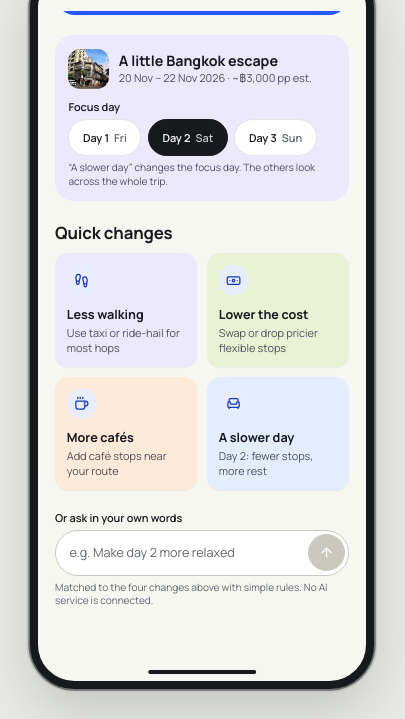
Test: AdjustScreen › the itinerary "Undo last change" replaces a stale Undo toast
(page scrolled)
Step 1. Click the button "More cafés Add café stops near your route" → (126,433), box left=55, top=377, right=197, bottom=490
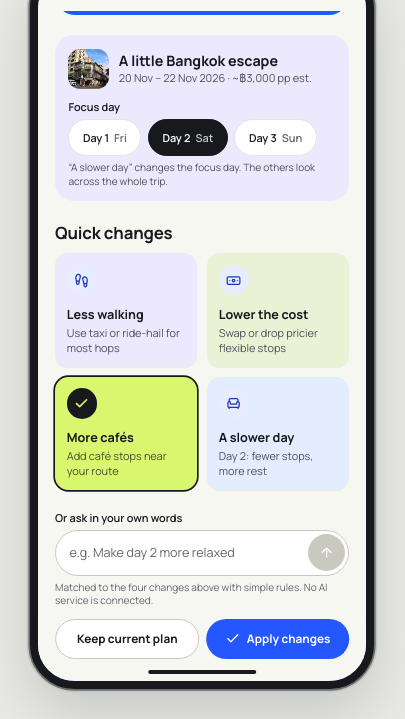
Step 2. Click the button "Apply changes" → (278,639), box left=206, top=619, right=349, bottom=659
(page scrolled)
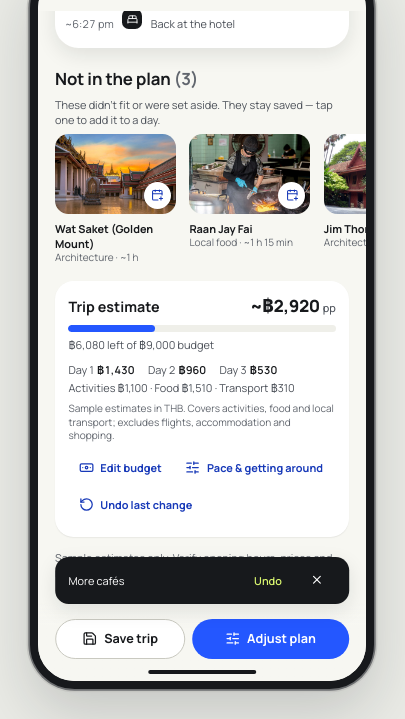
Step 3. Click the button "Undo last change" → (135,505), box left=68, top=486, right=202, bottom=523
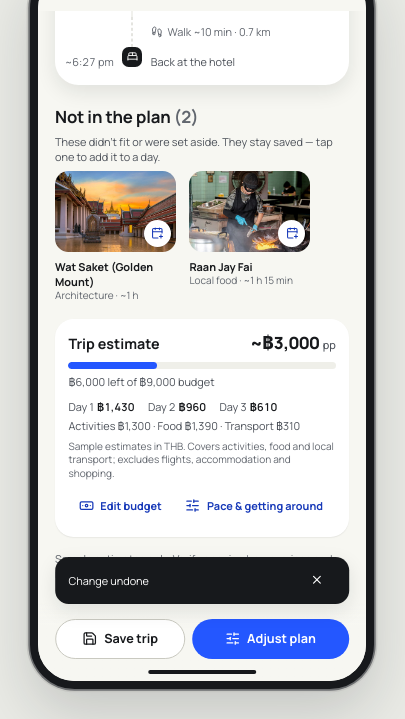
Check: the button does not show "Undo"
Check: the message "Change undone" is shown, box left=38, top=557, right=366, bottom=604
